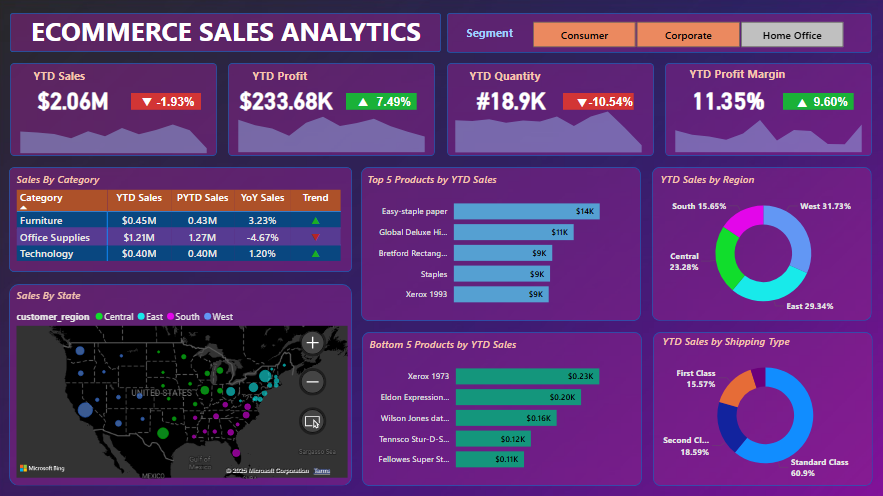

What the dashboard file says about the page in this screenshot:
{"tool":"powerbi","page":{"name":"Page 1","canvas":[1280,720],"ordinal":0},"visuals":[{"type":"shape","box":[24.3,20,615.7,55.7],"z":0},{"type":"shape","box":[943.3,475,313.8,220],"z":1000},{"type":"textbox","box":[31.4,14.3,602.9,61.4],"z":2000},{"type":"shape","box":[24.3,91.4,295.7,132.9],"z":2000,"group":"g1"},{"type":"card","fields":{"Values":["ecommerce_data.YTD Sales"]},"box":[31.4,112.8,165.7,61.4],"z":3000,"group":"g1"},{"type":"donutChart","title":"YTD Sales by Shipping Type","fields":{"Y":["ecommerce_data.YTD Sales"],"Category":["ecommerce_data.shipping_type"]},"box":[950.8,478.8,303.8,212.5],"z":3000},{"type":"shape","box":[197.2,134.3,100,24.3],"z":4000,"group":"g1"},{"type":"shape","box":[23.5,240.2,490,150],"z":4000},{"type":"areaChart","fields":{"Category":["Calendar.Month"],"Y":["Sum(ecommerce_data.sales_per_order)"]},"box":[24.3,147.1,295.7,78.6],"z":5000,"group":"g1"},{"type":"shape","box":[23.3,406.7,490,288.3],"z":5000},{"type":"card","fields":{"Values":["ecommerce_data.YoY Sales"]},"box":[220,134.3,81.4,27.1],"z":6000,"group":"g1"},{"type":"pivotTable","title":"Sales By Category","fields":{"Rows":["ecommerce_data.category_name"],"Values":["ecommerce_data.YTD Sales","ecommerce_data.PYTD Sales","ecommerce_data.YoY Sales","ecommerce_data.Sales Icon"]},"box":[28.6,246.9,477.1,136.1],"z":6000},{"type":"card","fields":{"Values":["ecommerce_data.Sales Icon"]},"box":[198.6,134.3,42.9,27.1],"z":7000,"group":"g1"},{"type":"map","title":"Sales By State","fields":{"Y":["us_state_long_lat_codes.latitude"],"X":["us_state_long_lat_codes.longitude"],"Size":["ecommerce_data.YTD Sales"],"Series":["ecommerce_data.customer_region"]},"box":[28.3,413.3,483.3,276.7],"z":7000},{"type":"shape","box":[648.3,20,606.7,56.7],"z":8000},{"type":"textbox","box":[52.9,94.3,100,32.9],"z":8000,"group":"g1"},{"type":"group","id":"g1","title":"Group 1","box":[24.3,91.4,295.7,134.3],"z":9000},{"type":"shape","box":[335.6,91.7,295.7,132.9],"z":9000,"group":"g2"},{"type":"group","id":"g2","title":"Group 2","box":[335.6,91.7,295,133.3],"z":10000},{"type":"shape","box":[648.6,91.7,295.7,132.9],"z":10000,"group":"g3"},{"type":"textbox","box":[671.7,33.3,100,31.7],"z":11000},{"type":"shape","box":[960,91.7,295.7,132.9],"z":11000,"group":"g4"},{"type":"group","id":"g3","title":"Group 3","box":[646.1,91.7,298.3,133.3],"z":12000},{"type":"card","fields":{"Values":["ecommerce_data.YTD Profit"]},"box":[335.6,113.1,165.7,61.4],"z":12000,"group":"g2"},{"type":"group","id":"g4","title":"Group 4","box":[960,91.7,295.7,132.9],"z":13000},{"type":"card","fields":{"Values":["ecommerce_data.YTD Qty Concatenated"]},"box":[657.9,113.5,166.3,60.5],"z":13000,"group":"g3"},{"type":"slicer","fields":{"Values":["ecommerce_data.customer_segment"]},"box":[745,25,493.3,50],"z":14000},{"type":"card","fields":{"Values":["ecommerce_data.YTD Profit Margin"]},"box":[966.7,113.5,166.3,60.5],"z":14000,"group":"g4"},{"type":"shape","box":[504.6,134.7,100.8,23.5],"z":15000,"group":"g2"},{"type":"shape","box":[525,240,399.8,220.1],"z":15000},{"type":"shape","box":[815.1,134.7,100.8,23.5],"z":16000,"group":"g3"},{"type":"shape","box":[526.7,475,399.8,220.1],"z":16000},{"type":"shape","box":[1129,134.7,100.8,23.5],"z":17000,"group":"g4"},{"type":"barChart","title":"Top 5 Products by YTD Sales","fields":{"Category":["ecommerce_data.product_name"],"Y":["ecommerce_data.YTD Sales"]},"box":[529.9,247,386,203.9],"z":17000},{"type":"areaChart","fields":{"Category":["Calendar.Month"],"Y":["Sum(ecommerce_data.profit_per_order)"]},"box":[335.6,146,295.7,78.6],"z":18000,"group":"g2"},{"type":"barChart","title":"Bottom 5 Products by YTD Sales","fields":{"Category":["ecommerce_data.product_name"],"Y":["ecommerce_data.YTD Sales"]},"box":[533,482.8,386,203.9],"z":18000},{"type":"areaChart","fields":{"Category":["Calendar.Month"],"Y":["Sum(ecommerce_data.order_quantity)"]},"box":[646.1,145.5,295.6,79],"z":19000,"group":"g3"},{"type":"shape","box":[941.7,240,313.7,219.8],"z":19000},{"type":"areaChart","fields":{"Category":["Calendar.Month"],"Y":["ecommerce_data.Profit Margin"]},"box":[960,146,295.7,78.6],"z":20000,"group":"g4"},{"type":"donutChart","title":"YTD Sales by Region","fields":{"Category":["ecommerce_data.customer_region"],"Y":["ecommerce_data.YTD Sales"]},"box":[949.1,247.5,303.8,212.5],"z":20000},{"type":"card","fields":{"Values":["ecommerce_data.YoY Profit"]},"box":[531.5,134.7,82.3,26.9],"z":21000,"group":"g2"},{"type":"card","fields":{"Values":["ecommerce_data.YoY Qty"]},"box":[842,134.7,82.3,26.9],"z":22000,"group":"g3"},{"type":"card","fields":{"Values":["ecommerce_data.YoY Profit Margin"]},"box":[1155.9,134.7,82.3,26.9],"z":23000,"group":"g4"},{"type":"card","fields":{"Values":["ecommerce_data.Profit Icon"]},"box":[507,134.6,42.9,27.1],"z":24000,"group":"g2"},{"type":"card","fields":{"Values":["ecommerce_data.Qty Icon"]},"box":[820.8,135.4,43.7,26.9],"z":25000,"group":"g3"},{"type":"card","fields":{"Values":["ecommerce_data.Profit Margin Icon"]},"box":[1134.7,135.4,43.7,26.9],"z":26000,"group":"g4"},{"type":"textbox","box":[365.6,94.6,100,32.9],"z":27000,"group":"g2"},{"type":"textbox","box":[676.3,95.1,136.1,31.9],"z":28000,"group":"g3"},{"type":"textbox","box":[990.2,91.7,162.9,35.3],"z":29000,"group":"g4"}]}

Visuals, with their boxes in screenshot pixels (x1, y1, x2, y2), scaled from the page's 1280x720 canvas onto the 883x496 screenshot:
shape: x1=17 y1=14 x2=442 y2=52
shape: x1=651 y1=327 x2=867 y2=479
textbox: x1=22 y1=10 x2=438 y2=52
shape: x1=17 y1=63 x2=221 y2=155
card - ecommerce_data.YTD Sales: x1=22 y1=78 x2=136 y2=120
"YTD Sales by Shipping Type" donutChart: x1=656 y1=330 x2=865 y2=476
shape: x1=136 y1=93 x2=205 y2=109
shape: x1=16 y1=165 x2=354 y2=269
areaChart - Calendar.Month x Sum(ecommerce_data.sales_per_order): x1=17 y1=101 x2=221 y2=155
shape: x1=16 y1=280 x2=354 y2=479
card - ecommerce_data.YoY Sales: x1=152 y1=93 x2=208 y2=111
"Sales By Category" pivotTable: x1=20 y1=170 x2=349 y2=264
card - ecommerce_data.Sales Icon: x1=137 y1=93 x2=167 y2=111
"Sales By State" map: x1=20 y1=285 x2=353 y2=475
shape: x1=447 y1=14 x2=866 y2=53
textbox: x1=36 y1=65 x2=105 y2=88
"Group 1" group: x1=17 y1=63 x2=221 y2=155
shape: x1=232 y1=63 x2=435 y2=155
"Group 2" group: x1=232 y1=63 x2=435 y2=155
shape: x1=447 y1=63 x2=651 y2=155
textbox: x1=463 y1=23 x2=532 y2=45
shape: x1=662 y1=63 x2=866 y2=155
"Group 3" group: x1=446 y1=63 x2=651 y2=155
card - ecommerce_data.YTD Profit: x1=232 y1=78 x2=346 y2=120
"Group 4" group: x1=662 y1=63 x2=866 y2=155
card - ecommerce_data.YTD Qty Concatenated: x1=454 y1=78 x2=569 y2=120
slicer - ecommerce_data.customer_segment: x1=514 y1=17 x2=854 y2=52
card - ecommerce_data.YTD Profit Margin: x1=667 y1=78 x2=782 y2=120
shape: x1=348 y1=93 x2=418 y2=109
shape: x1=362 y1=165 x2=638 y2=317
shape: x1=562 y1=93 x2=632 y2=109
shape: x1=363 y1=327 x2=639 y2=479
shape: x1=779 y1=93 x2=848 y2=109
"Top 5 Products by YTD Sales" barChart: x1=366 y1=170 x2=632 y2=311
areaChart - Calendar.Month x Sum(ecommerce_data.profit_per_order): x1=232 y1=101 x2=435 y2=155
"Bottom 5 Products by YTD Sales" barChart: x1=368 y1=333 x2=634 y2=473
areaChart - Calendar.Month x Sum(ecommerce_data.order_quantity): x1=446 y1=100 x2=650 y2=155
shape: x1=650 y1=165 x2=866 y2=317
areaChart - Calendar.Month x ecommerce_data.Profit Margin: x1=662 y1=101 x2=866 y2=155
"YTD Sales by Region" donutChart: x1=655 y1=170 x2=864 y2=317
card - ecommerce_data.YoY Profit: x1=367 y1=93 x2=423 y2=111
card - ecommerce_data.YoY Qty: x1=581 y1=93 x2=638 y2=111
card - ecommerce_data.YoY Profit Margin: x1=797 y1=93 x2=854 y2=111
card - ecommerce_data.Profit Icon: x1=350 y1=93 x2=379 y2=111
card - ecommerce_data.Qty Icon: x1=566 y1=93 x2=596 y2=112
card - ecommerce_data.Profit Margin Icon: x1=783 y1=93 x2=813 y2=112
textbox: x1=252 y1=65 x2=321 y2=88
textbox: x1=467 y1=66 x2=560 y2=87
textbox: x1=683 y1=63 x2=795 y2=87
